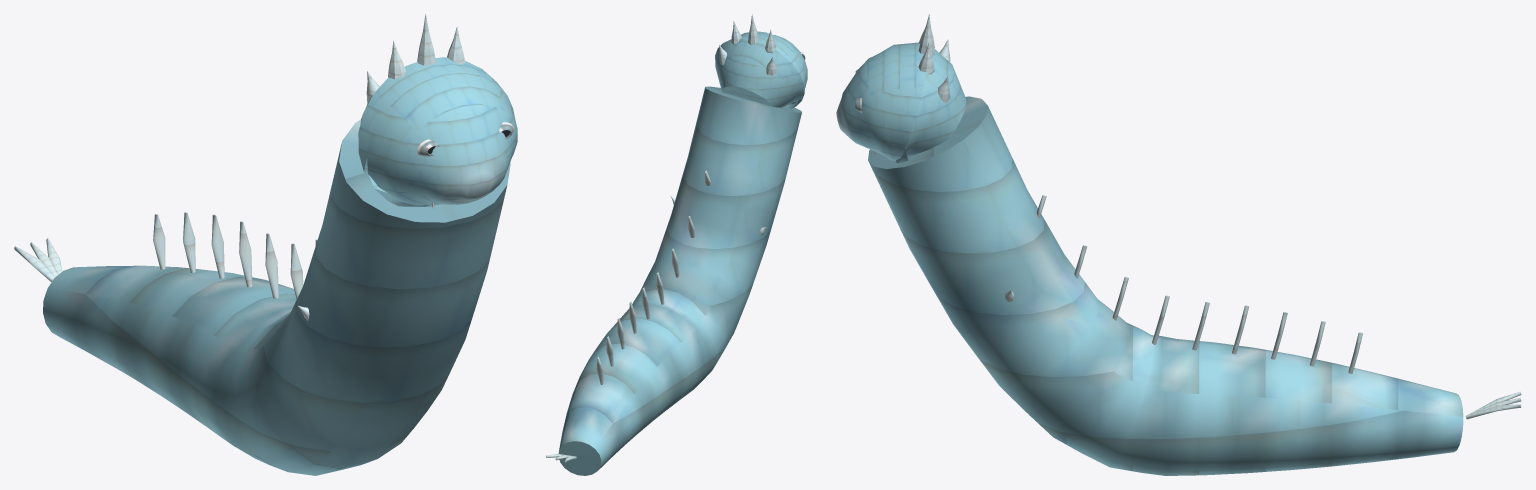
The model's file is sp_yukiorochi-2gdzf1wj.glb.
3 views of the same model, side by side, from view 1: azimuth 30°, elevation 25°; view 2: azimuth 150°, elevation 25°; view 3: azimuth 270°, elevation 25° (orthographic). The views are drawn at different scales.
Visible parts, largest first — view 1: Body, HeadMesh, IceBlades, Crown, TailFin; view 2: Body, HeadMesh, IceBlades, Crown; view 3: Body, HeadMesh, IceBlades, Crown.
Part boxes in pixels (bbox=[...]): Body: bbox=[43, 119, 510, 475]; HeadMesh: bbox=[358, 57, 517, 208]; IceBlades: bbox=[153, 212, 317, 299]; Crown: bbox=[366, 14, 465, 103]; TailFin: bbox=[14, 238, 62, 281]; Body: bbox=[558, 86, 801, 475]; HeadMesh: bbox=[715, 31, 807, 108]; IceBlades: bbox=[596, 170, 711, 384]; Crown: bbox=[719, 14, 776, 75]; Body: bbox=[868, 96, 1463, 475]; HeadMesh: bbox=[836, 42, 966, 163]; IceBlades: bbox=[1036, 195, 1362, 373]; Crown: bbox=[918, 14, 950, 102].
Size of the model in its own units: 0.2818 by 0.8632 by 1.2.
1 material, 1 textured.
